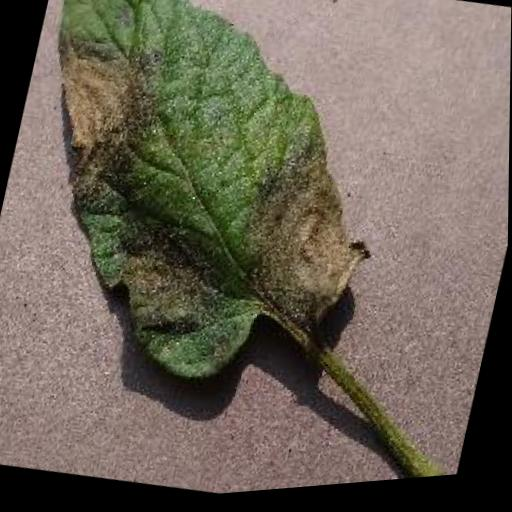Late Blight: (0, 0, 417, 425)
